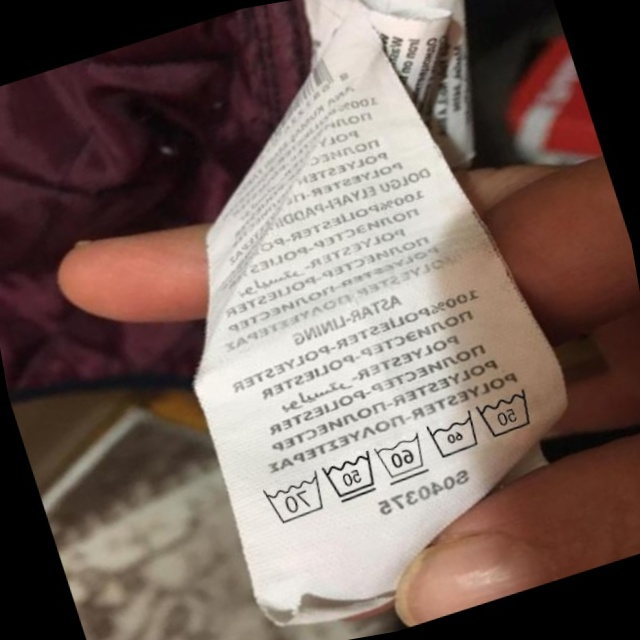50C: (468, 378, 545, 447), (315, 445, 386, 511)
60C: (367, 426, 434, 490), (419, 405, 487, 467)
70C: (254, 467, 331, 532)
